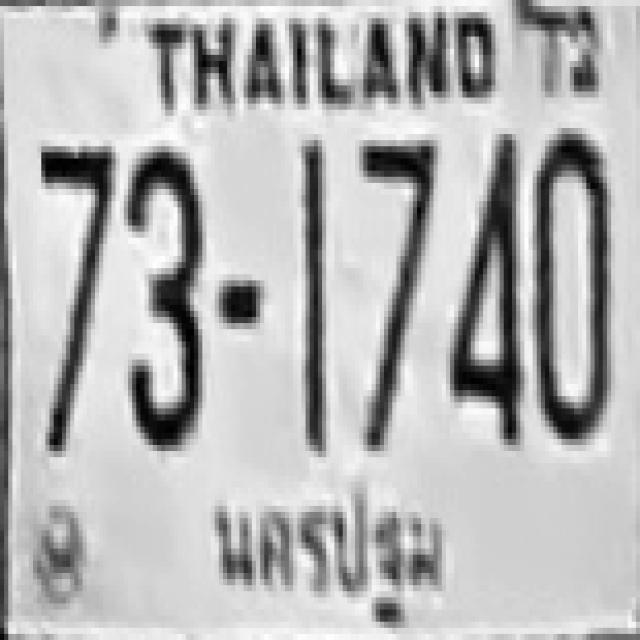0: (533, 125, 607, 436)
1: (299, 140, 324, 439), (299, 140, 324, 402)
3: (124, 140, 198, 445)
4: (446, 131, 520, 442)
7: (357, 134, 436, 439), (37, 140, 112, 439), (357, 137, 436, 338), (37, 144, 112, 350)
NakhonPathom: (197, 470, 450, 636)
